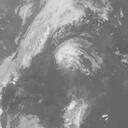cyclone: (54, 36, 103, 77)
